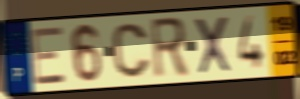4: (237, 14, 266, 71)
6: (69, 21, 104, 85)
C: (110, 21, 153, 80)
E: (29, 24, 68, 87)
R: (149, 15, 191, 82)
X: (192, 14, 234, 77)
